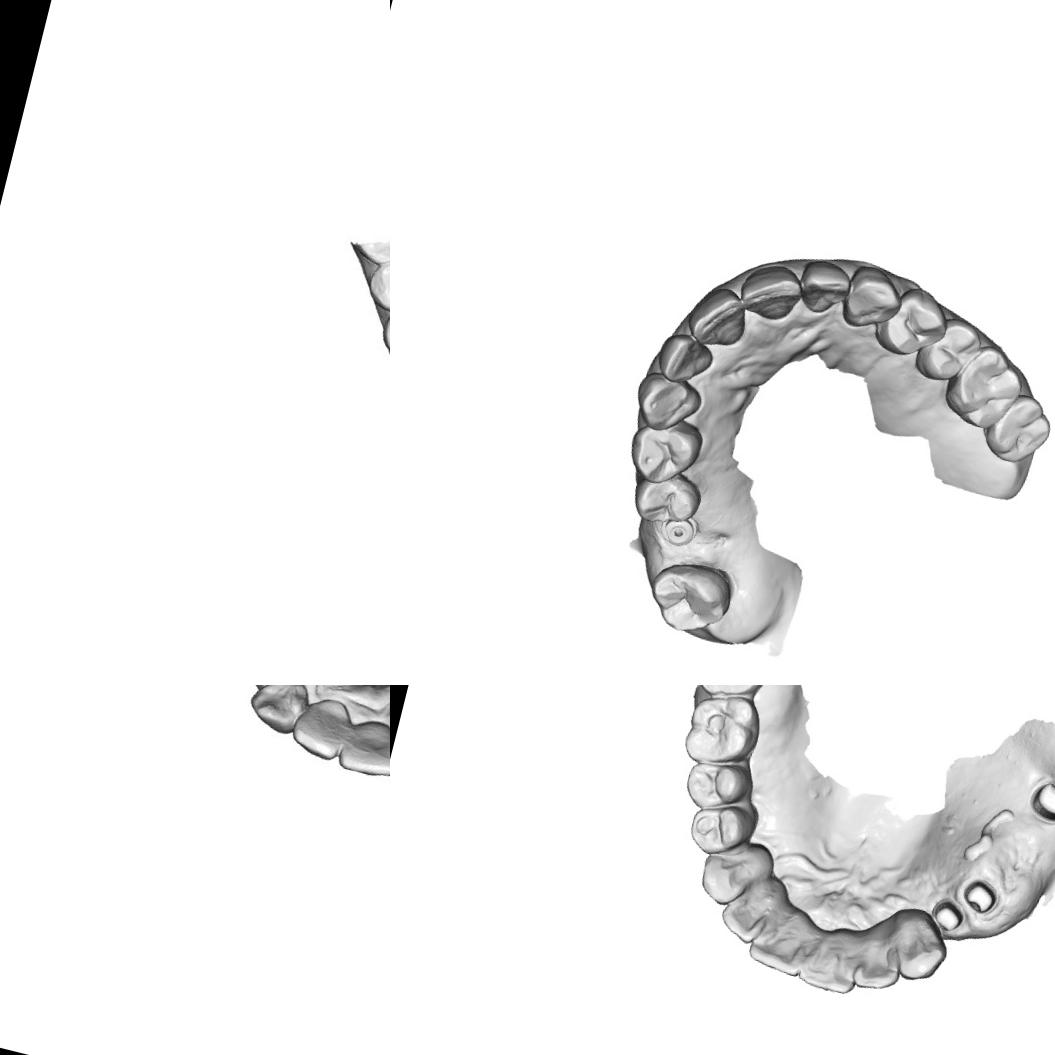abutment: (958, 874, 1002, 918), (927, 893, 968, 935), (1022, 776, 1055, 827)
canine: (695, 831, 778, 915), (626, 367, 708, 439), (886, 904, 956, 987), (838, 266, 900, 334), (242, 685, 310, 734)
implant: (657, 512, 700, 551)
incisor: (284, 689, 358, 768), (744, 898, 814, 979), (796, 918, 868, 996), (679, 277, 754, 351), (734, 256, 808, 327), (792, 252, 857, 320), (650, 327, 718, 391), (334, 713, 390, 781), (848, 936, 905, 996), (714, 892, 770, 948)
molar: (935, 334, 1032, 440), (640, 550, 740, 643), (679, 685, 767, 774), (978, 383, 1055, 472), (692, 685, 776, 708)
premolar: (621, 408, 709, 494), (872, 280, 956, 364), (910, 308, 988, 393), (624, 463, 708, 534), (679, 752, 758, 820), (684, 793, 760, 863), (361, 250, 390, 320), (374, 301, 390, 367)
